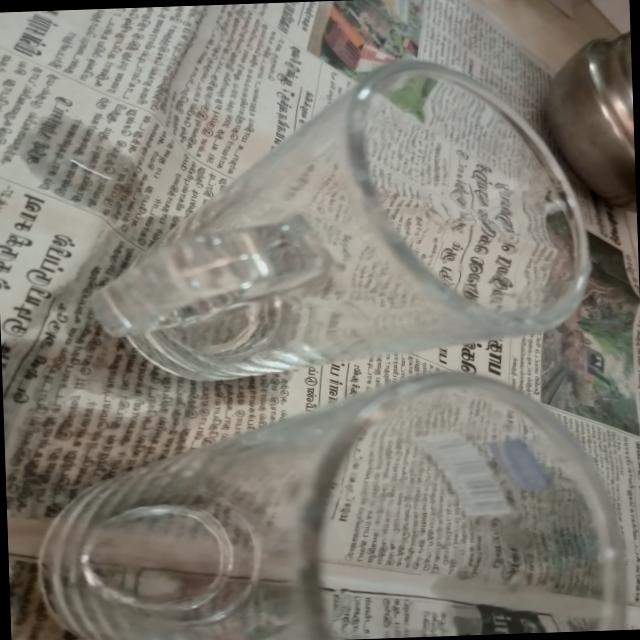glass-VX4N: (83, 57, 600, 386), (37, 359, 632, 640)
